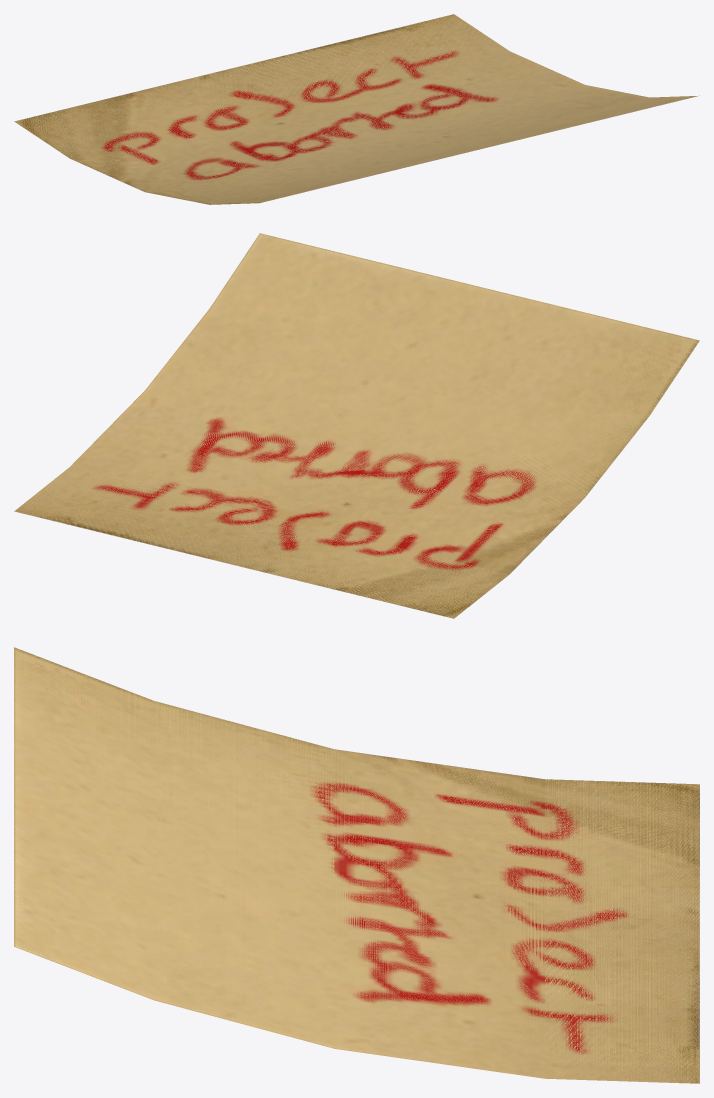
The model's file is notes_mission_aborted_04.dae.
3 views of the same model, one above another, from view 1: azimuth 30°, elevation 25°; view 2: azimuth 150°, elevation 25°; view 3: azimuth 270°, elevation 25° (orthographic). The views are drawn at different scales.
Visible parts, largest first — view 1: postit_project_aborted; view 2: postit_project_aborted; view 3: postit_project_aborted.
Boxes of the visible parts, x1,y1,x2,y2 form: postit_project_aborted: (14, 14, 699, 204); postit_project_aborted: (14, 233, 699, 618); postit_project_aborted: (14, 647, 699, 1083).
Bounding box in the file's own units: 0.125 × 0.0267 × 0.121.
